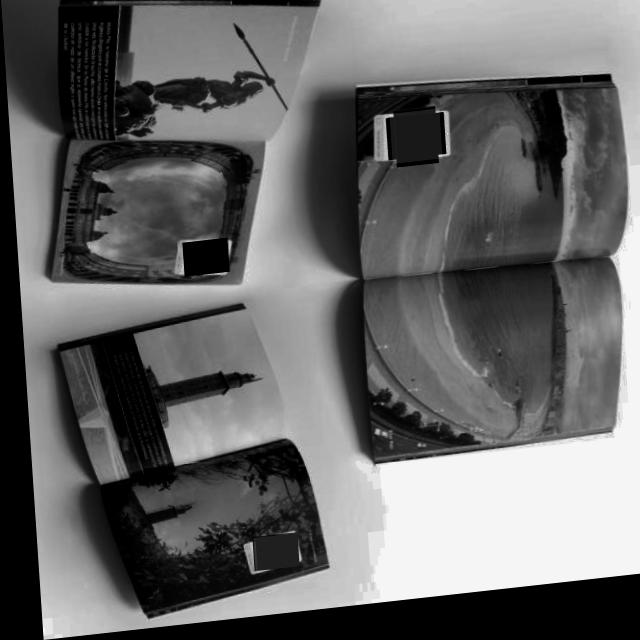qr_code: (386, 119, 439, 173), (178, 243, 224, 281), (244, 539, 290, 576)
